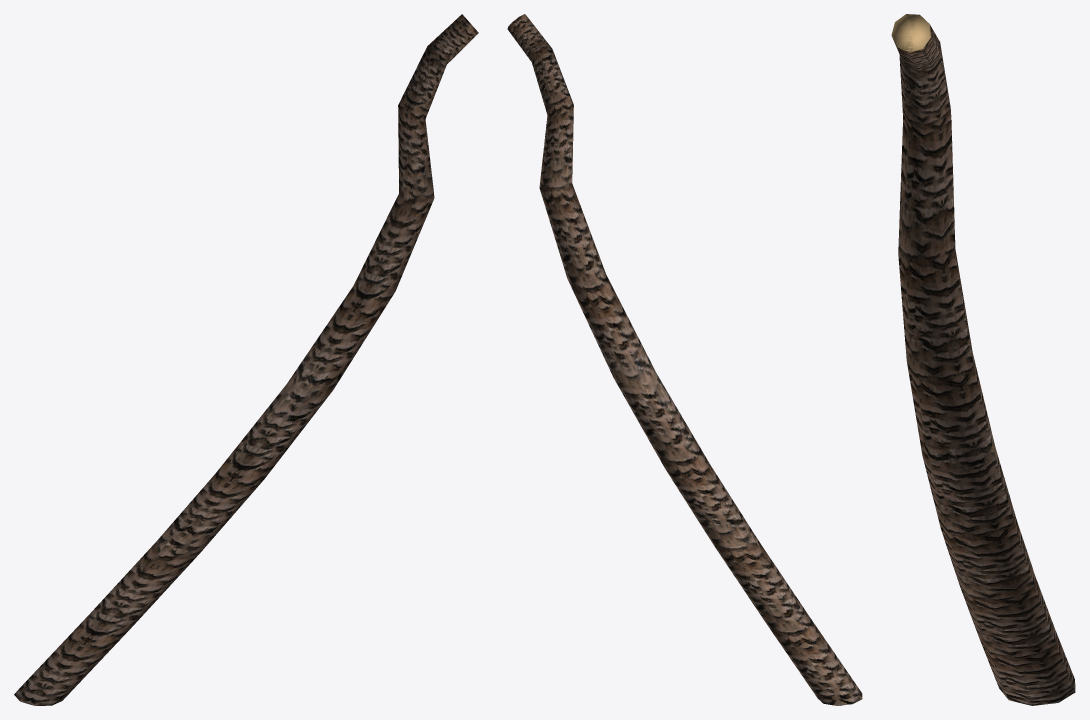
Rendered from Palm4Mesh36Shape.dae.
3 views of the same model, side by side, from view 1: azimuth 30°, elevation 25°; view 2: azimuth 150°, elevation 25°; view 3: azimuth 270°, elevation 25° (orthographic). The views are drawn at different scales.
Parts seen in each view (by area): view 1: Palm4Mesh36; view 2: Palm4Mesh36; view 3: Palm4Mesh36.
Boxes of the visible parts, x1,y1,x2,y2 form: Palm4Mesh36: [14, 14, 478, 705]; Palm4Mesh36: [507, 14, 862, 705]; Palm4Mesh36: [891, 14, 1075, 705].
Size of the model in its own units: 14.59 by 20.52 by 3.53.
